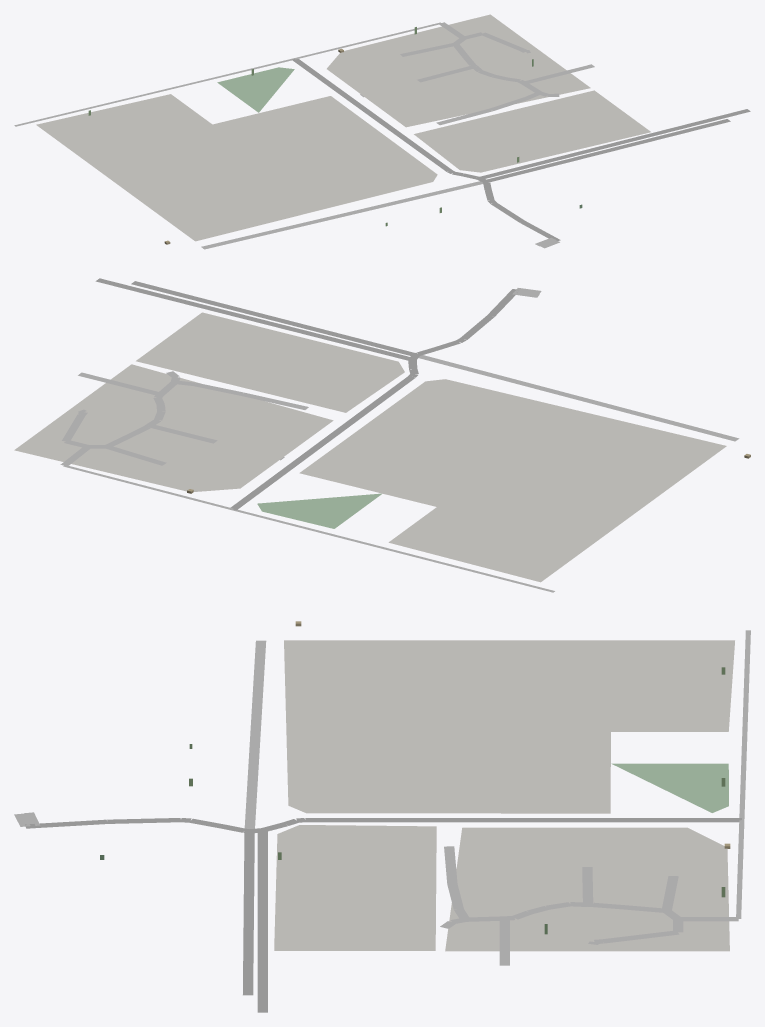
The picture shows the model from 3 angles, top to bottom: view 1: azimuth 30°, elevation 25°; view 2: azimuth 150°, elevation 25°; view 3: azimuth 270°, elevation 25°; orthographic projection. The views are drawn at different scales.
Size of the model in its own units: 631 by 10.79 by 498.
